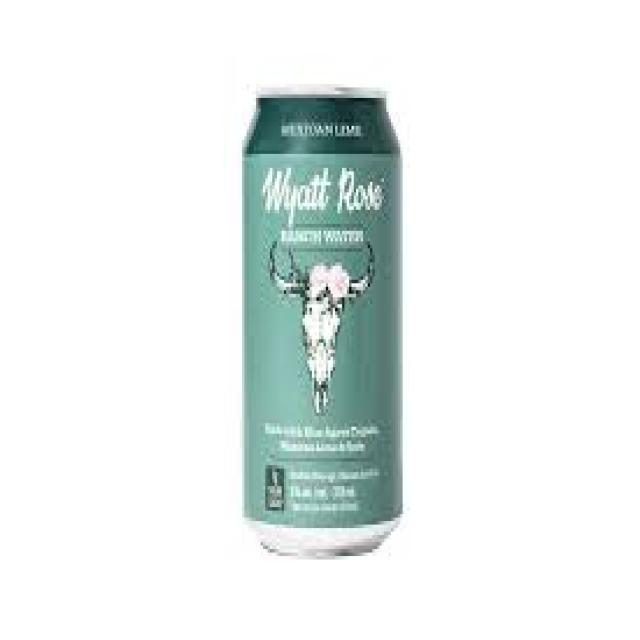Cans: (238, 73, 414, 570)
